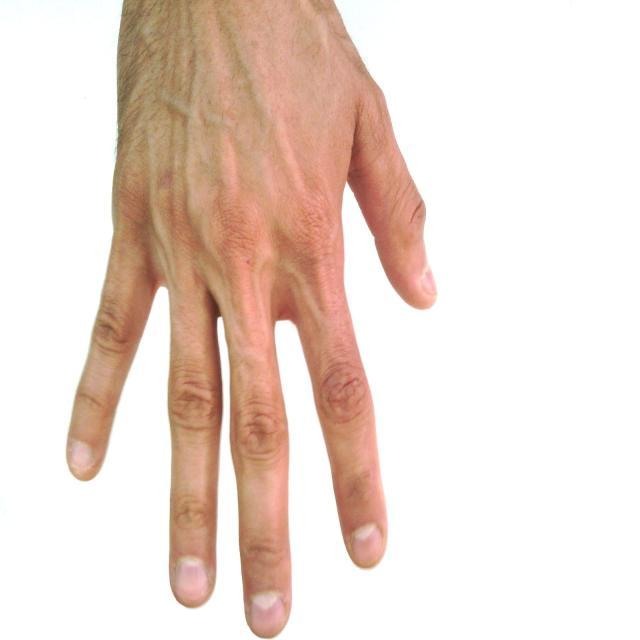Fingernail: (250, 593, 286, 637), (176, 558, 210, 603), (351, 525, 383, 564), (69, 442, 95, 469), (421, 269, 437, 294)
